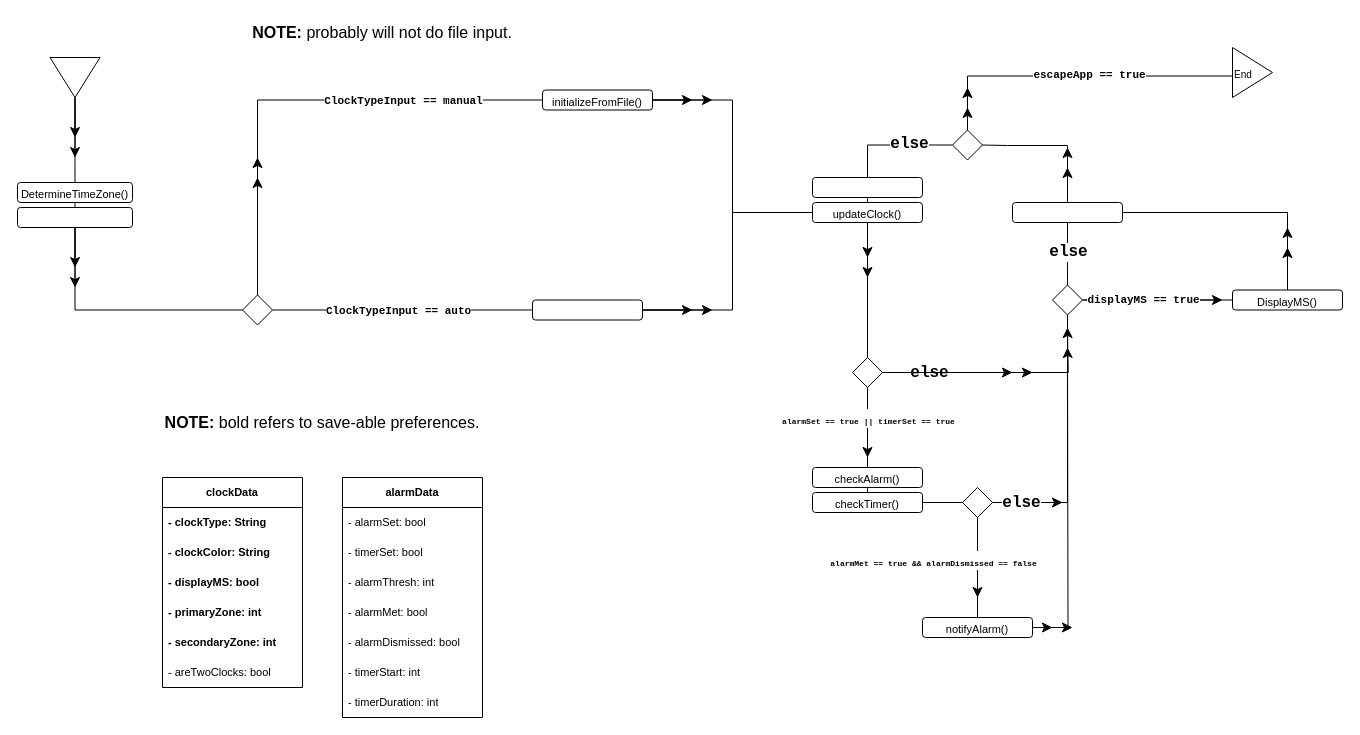
The diagram is 1360 pixels wide and 735 high, and some of its shapes have lost their labels. Here are the shapes that lost their labels. From the top down, the centre of each, then its label:
At point (74, 77): "Start".
At point (867, 187): "receiveInput()".
At point (74, 217): "SavePreferences()".
At point (1067, 212): "Display()".
At point (587, 309): "initializeDefault()".
